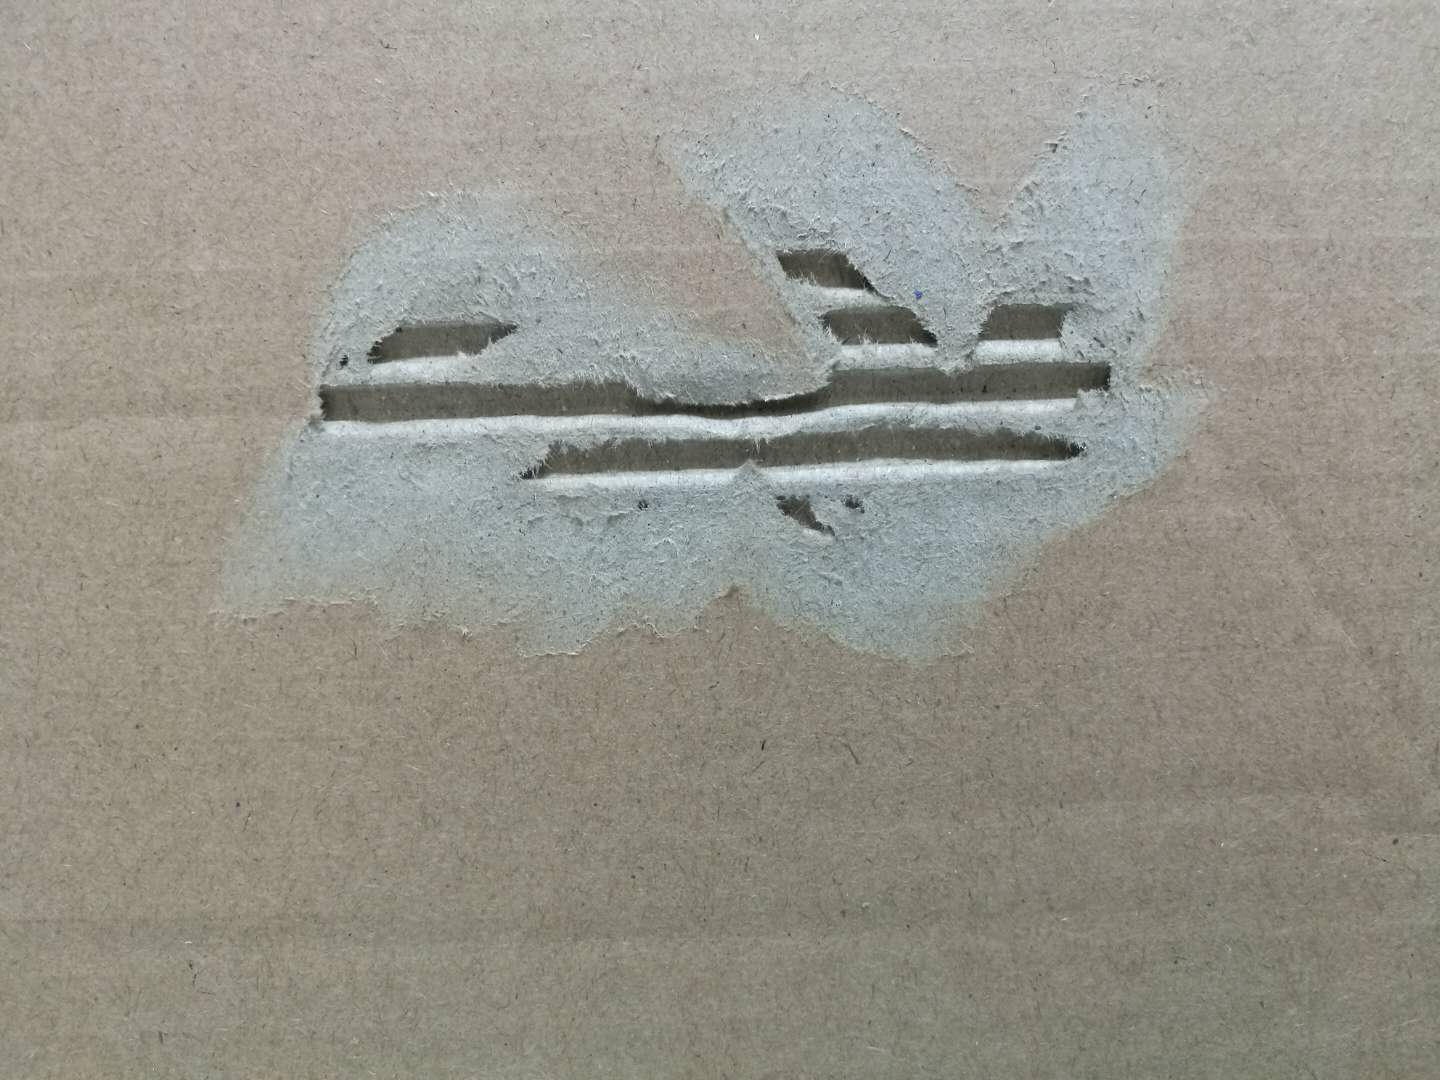defect: (163, 48, 1312, 701)
